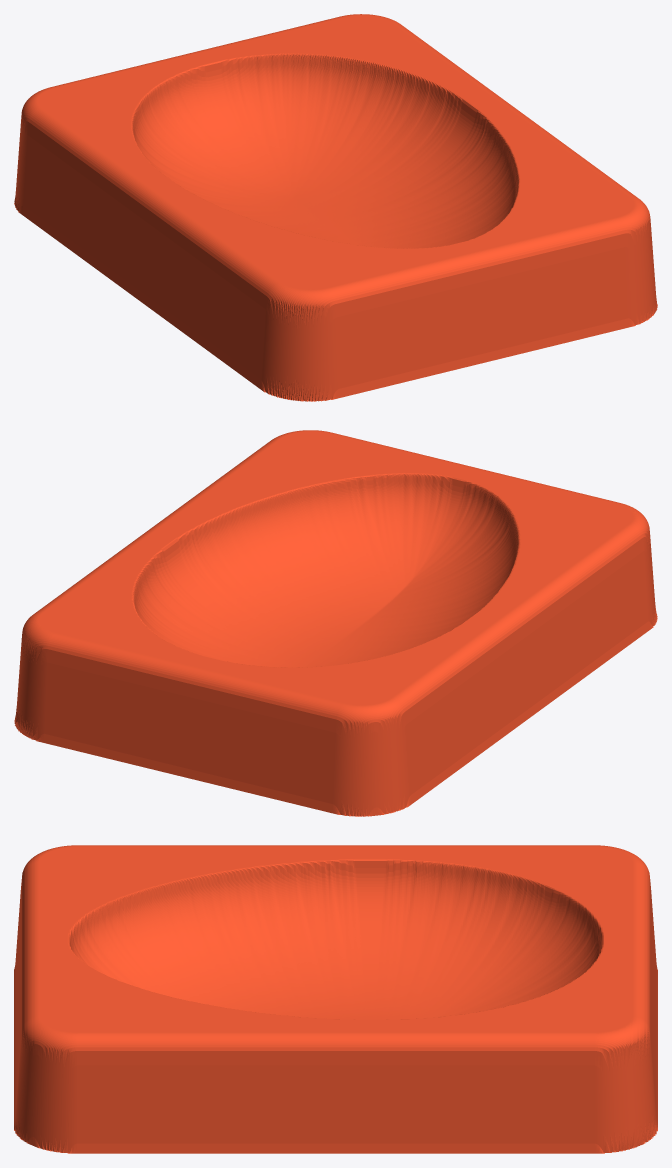
The model's file is mold.glb.
The picture shows the model from 3 angles, top to bottom: view 1: azimuth 30°, elevation 25°; view 2: azimuth 150°, elevation 25°; view 3: azimuth 270°, elevation 25°; orthographic projection. The views are drawn at different scales.
Parts seen in each view (by area): view 1: geometry_0; view 2: geometry_0; view 3: geometry_0.
Boxes of the visible parts, <box> form: geometry_0: <box>14,14,657,401</box>; geometry_0: <box>14,430,657,816</box>; geometry_0: <box>14,845,657,1153</box>.
Bounding box in the file's own units: 0.0702 × 0.0175 × 0.0924.
